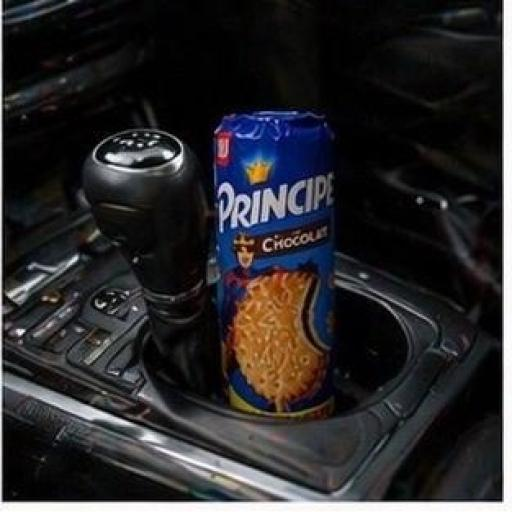prince: (106, 60, 412, 452)
